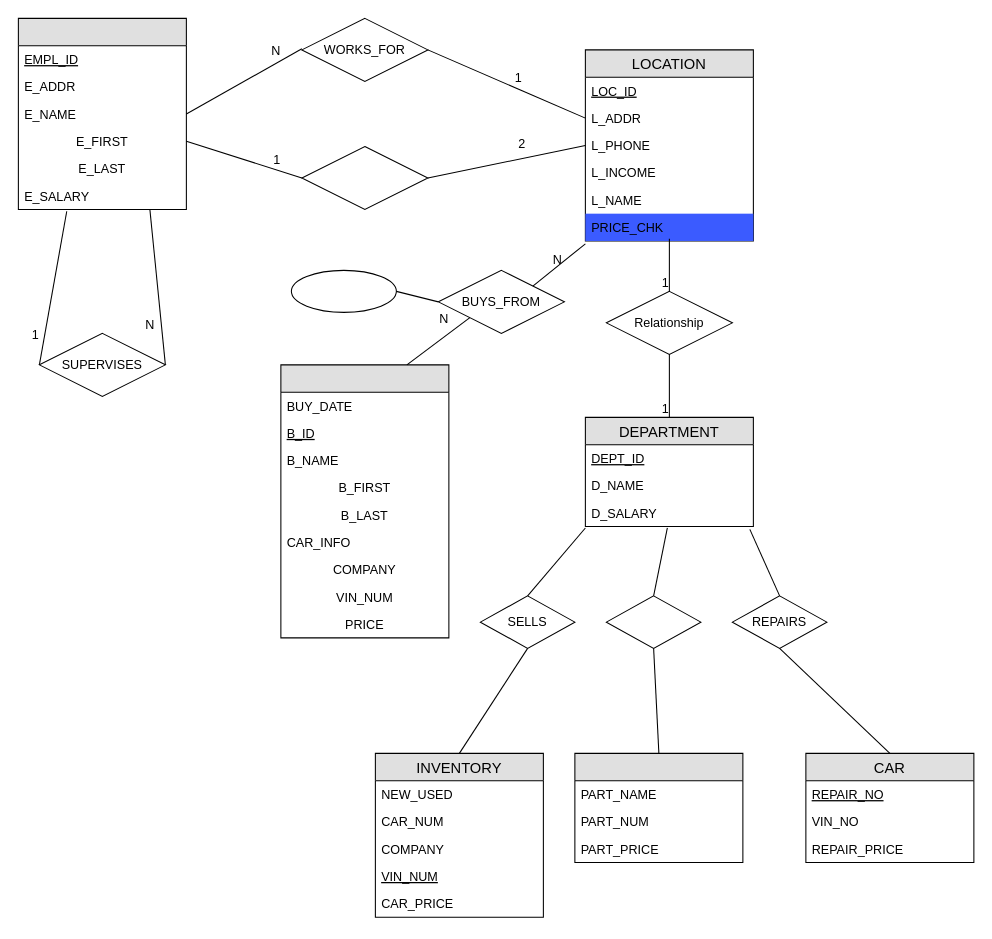
The diagram is 992 pixels wide and 939 high, and some of its shapes have lost their labels. The shapes that lost their labels are listed below. From the top down, each one's box as (x1, y1, x2, y2) in pixels, then its label:
(17, 17, 186, 209): EMPLOYEE
(301, 145, 428, 209): MANAGES
(290, 269, 396, 312): INVOICE_#
(280, 364, 449, 638): BUYER
(605, 595, 701, 648): HAS
(574, 752, 743, 863): PARTS
